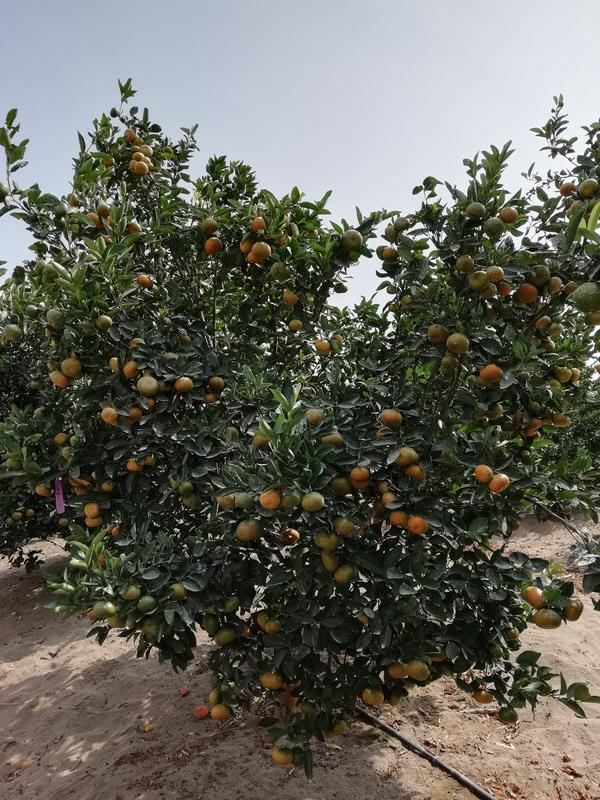mandarina naranja: (236, 520, 262, 540), (272, 746, 295, 766), (528, 265, 551, 285), (380, 409, 404, 428), (407, 661, 429, 681), (522, 586, 544, 606), (516, 283, 538, 303), (261, 488, 281, 509), (261, 671, 284, 689), (566, 598, 583, 622), (61, 359, 83, 377), (361, 689, 384, 706), (407, 516, 426, 536), (387, 661, 407, 680), (211, 705, 234, 721), (480, 364, 503, 380), (490, 474, 509, 493), (50, 370, 68, 389), (475, 464, 492, 484), (205, 236, 223, 254), (473, 688, 493, 704), (351, 466, 370, 482), (252, 243, 271, 259), (499, 207, 518, 223), (100, 407, 118, 423), (305, 408, 325, 422), (85, 502, 102, 518), (314, 339, 331, 355), (175, 378, 193, 393), (388, 511, 407, 525), (135, 275, 154, 289), (208, 376, 224, 391), (283, 290, 298, 306), (560, 183, 577, 197), (251, 216, 265, 232), (135, 161, 149, 176), (554, 414, 570, 427), (86, 517, 104, 528), (382, 247, 398, 259), (498, 282, 511, 296), (290, 319, 302, 331), (131, 151, 146, 160)
mandarina verde: (575, 281, 599, 312), (532, 609, 561, 629), (446, 333, 470, 354), (340, 229, 364, 250), (136, 376, 159, 397), (334, 516, 357, 537), (314, 531, 342, 548), (302, 492, 326, 511), (321, 549, 338, 574), (468, 270, 489, 290), (336, 565, 358, 583), (215, 626, 235, 645), (484, 218, 505, 236), (93, 602, 116, 618), (428, 324, 448, 342), (466, 201, 486, 219), (233, 492, 254, 509), (579, 179, 598, 197), (46, 309, 65, 327), (397, 448, 417, 465), (406, 465, 426, 482), (3, 324, 22, 341), (456, 254, 475, 270), (264, 619, 281, 636), (555, 367, 573, 383), (200, 217, 218, 233), (137, 596, 156, 611), (548, 276, 563, 295), (24, 303, 40, 320), (96, 315, 114, 330), (482, 284, 498, 300), (534, 315, 551, 330), (441, 356, 459, 370), (489, 266, 504, 282), (35, 484, 53, 497), (324, 434, 343, 446), (394, 216, 408, 232), (550, 323, 564, 338), (124, 361, 138, 376), (123, 129, 136, 143), (97, 203, 110, 217), (126, 460, 142, 471), (140, 145, 154, 157), (13, 511, 23, 521), (27, 509, 35, 517)
